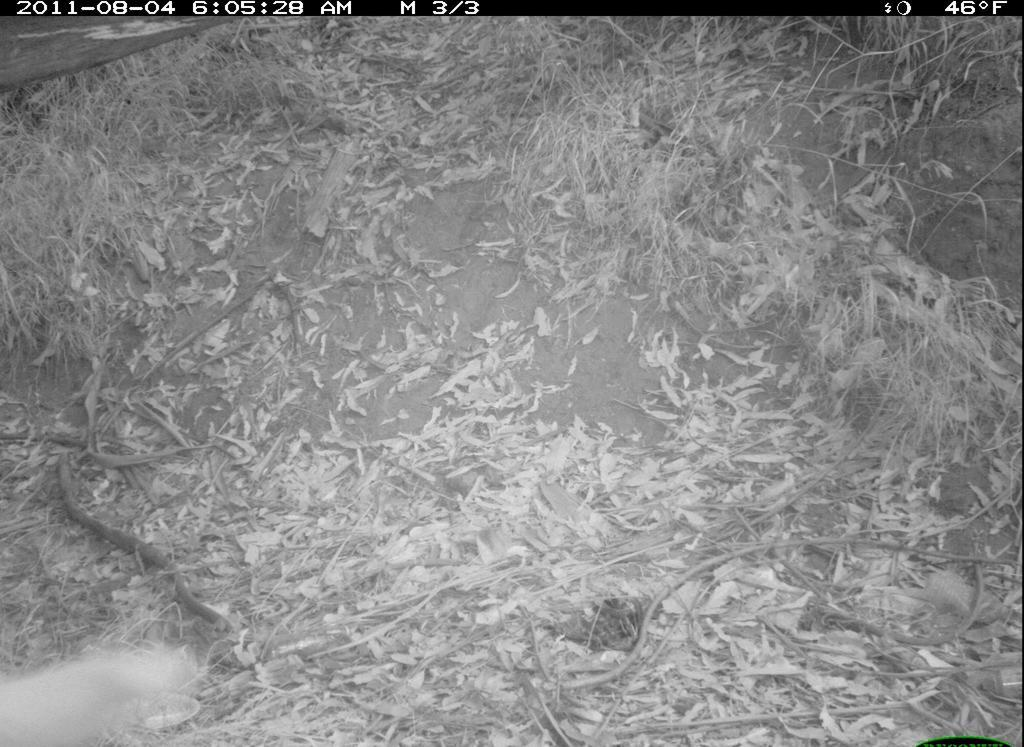dog: (1, 629, 213, 745)
